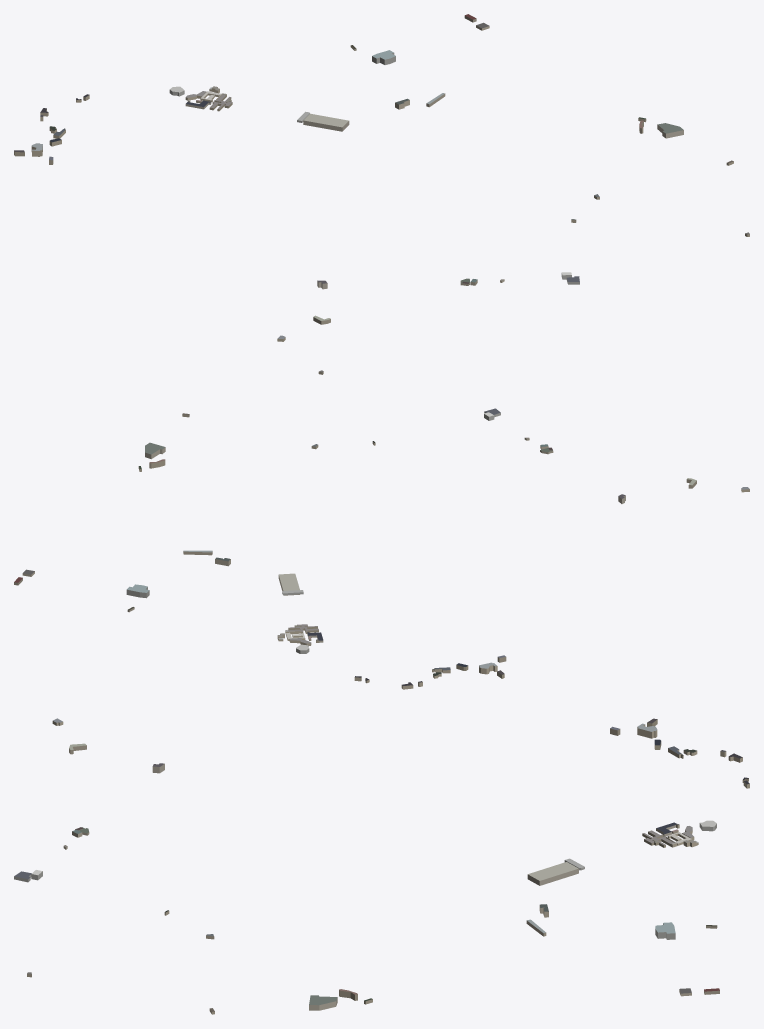
3 views of the same model, one above another, from view 1: azimuth 30°, elevation 25°; view 2: azimuth 150°, elevation 25°; view 3: azimuth 270°, elevation 25° (orthographic). The views are drawn at different scales.
Parts seen in each view (by area): view 1: tuile; view 2: tuile; view 3: tuile.
Boxes of the visible parts, box(x1,y1,x2,y2) form: tuile: box(14, 14, 749, 341); tuile: box(14, 370, 749, 689); tuile: box(14, 718, 749, 1014).
Size of the model in its own units: 949 by 19.47 by 997.
